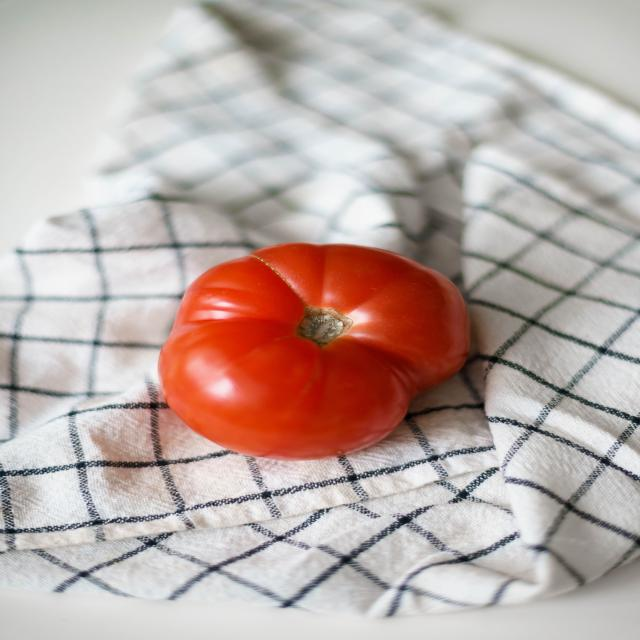Tomato: (160, 229, 482, 458)
